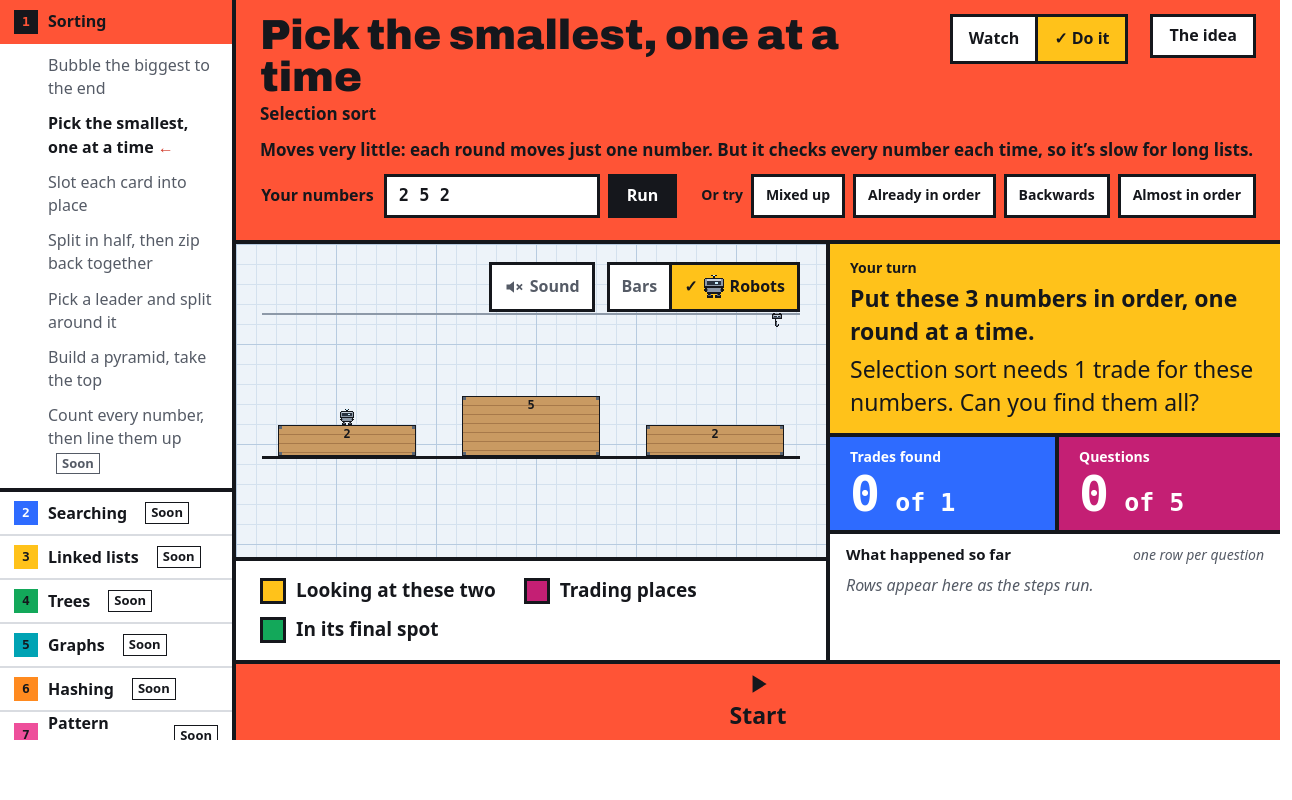
it: selection sort: Do it › equal values: New smallest is wrong, Keep looking is right
Step 1. Click the button "Start" → click(758, 702), box [236,664,1280,740]
Wait 4000 ms
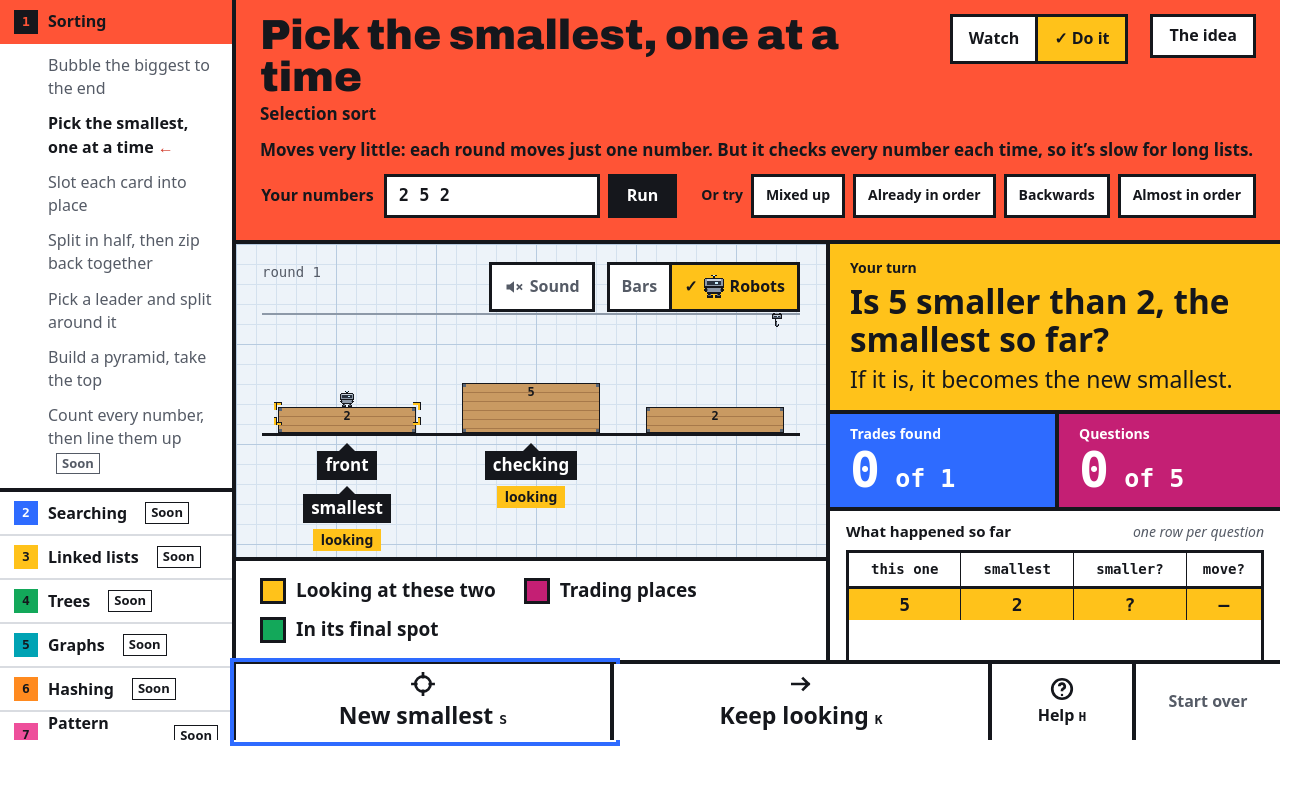
Step 2. Type keys "k"
Wait 2000 ms
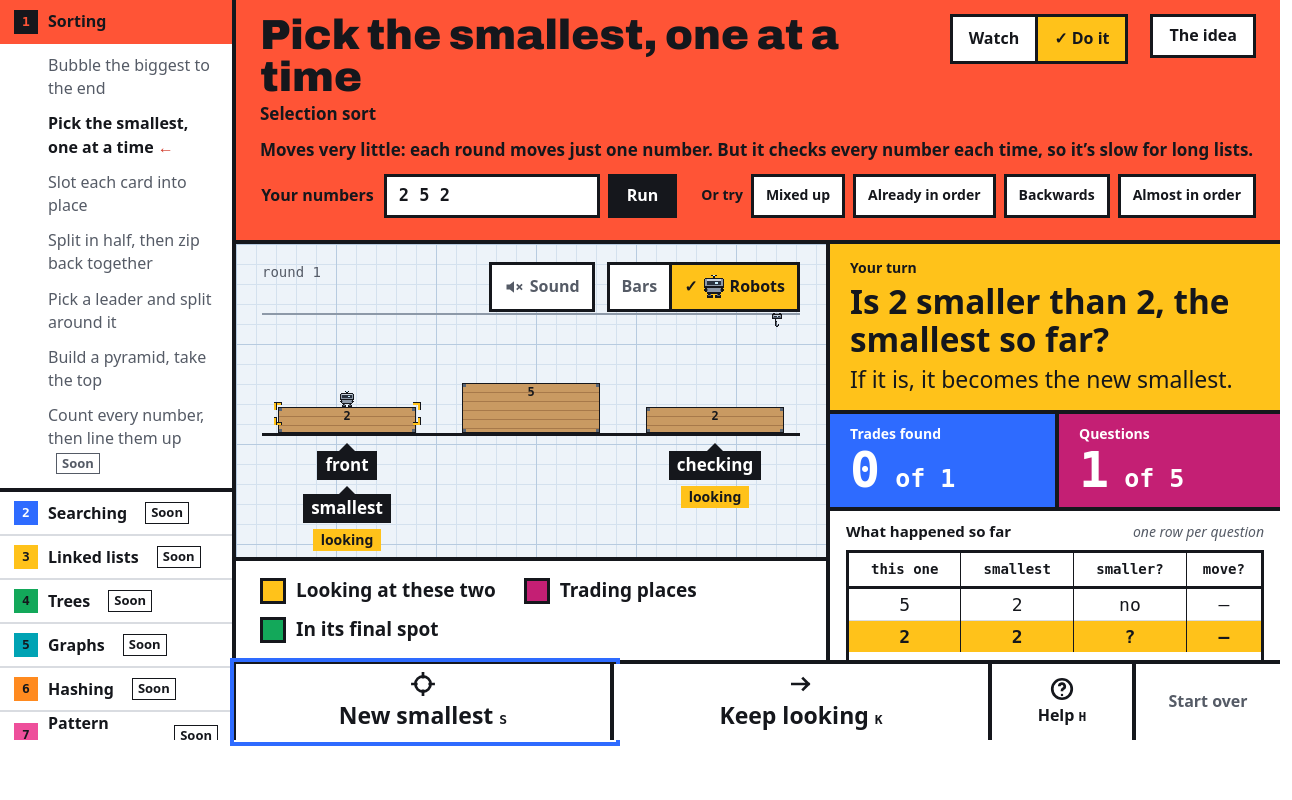
expect the text with class "do-it-question" reads "Is 2 smaller than 2, the smallest so far?": met, box [850,278,1230,362]
Step 3. Type keys "s"
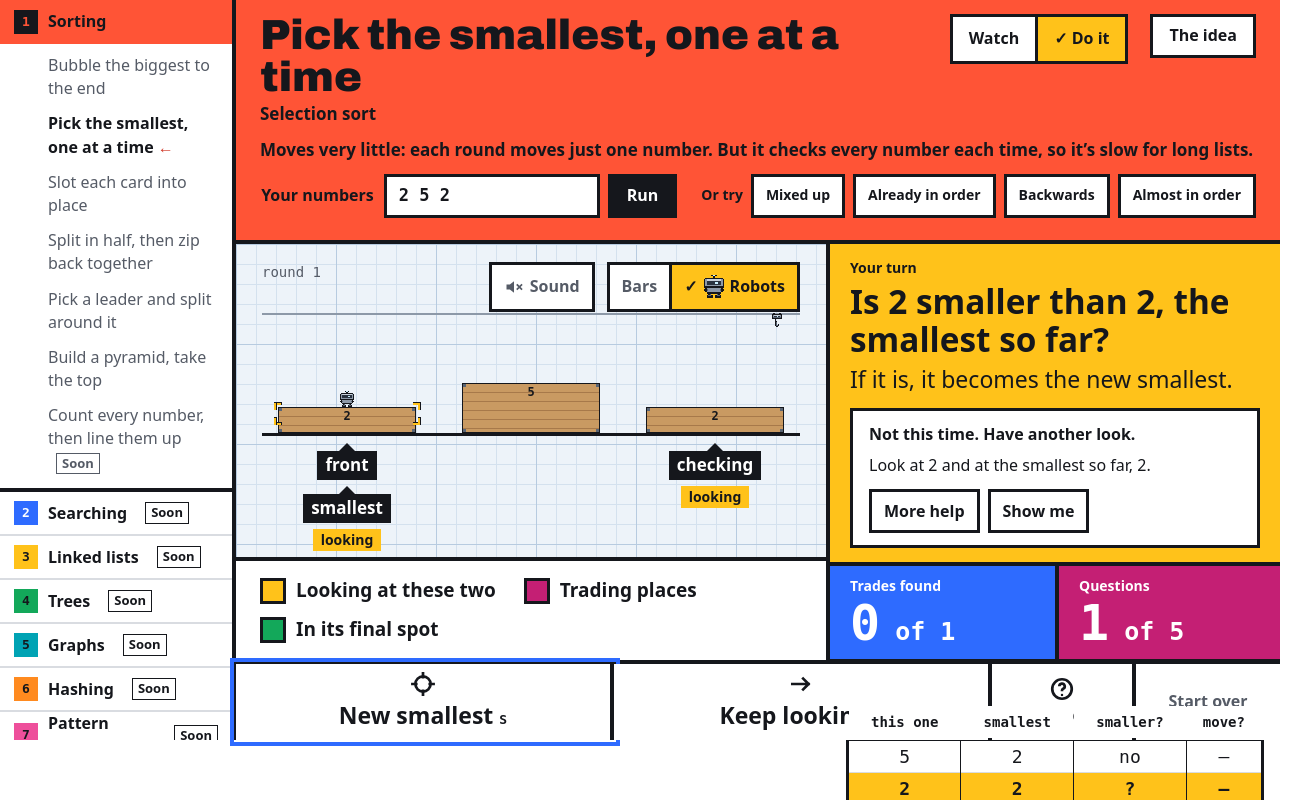
expect the element with class "do-it-panel" shows "Not this time.": met, box [869,423,1135,445]
Step 4. Type keys "k"
Wait 2000 ms
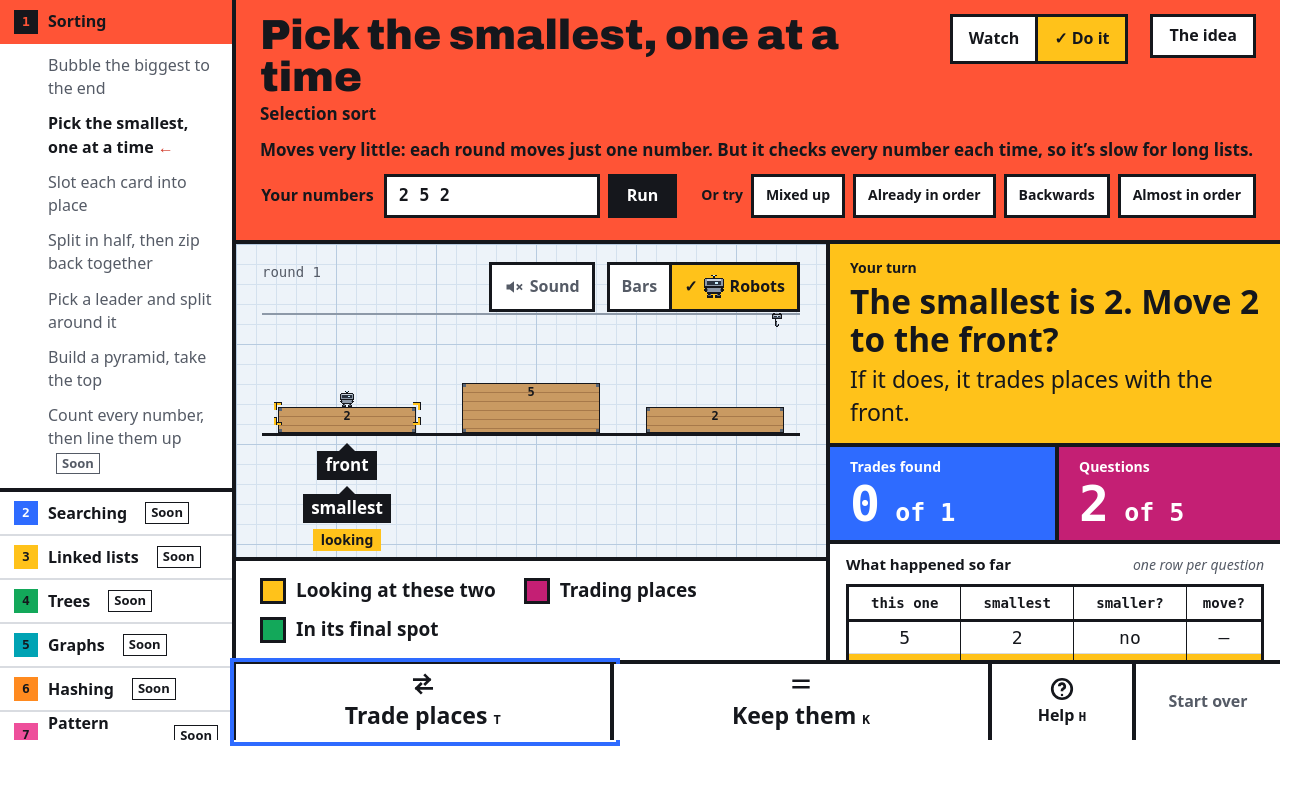
expect the element with class "do-it-panel" no longer shows "Not this time.": met, box [830,244,1280,447]
expect the text with class "do-it-question" reads "The smallest is 2. Move 2 to the front?": met, box [850,278,1259,362]
